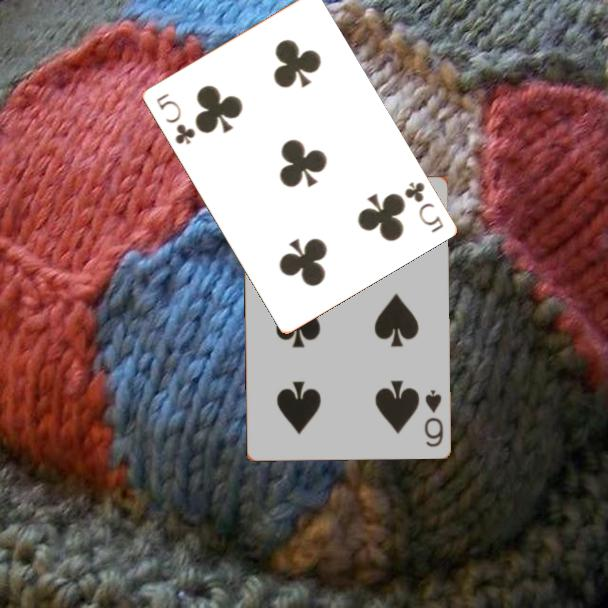c05: (400, 178, 446, 236), (153, 90, 198, 148)
s06: (421, 386, 446, 449)
